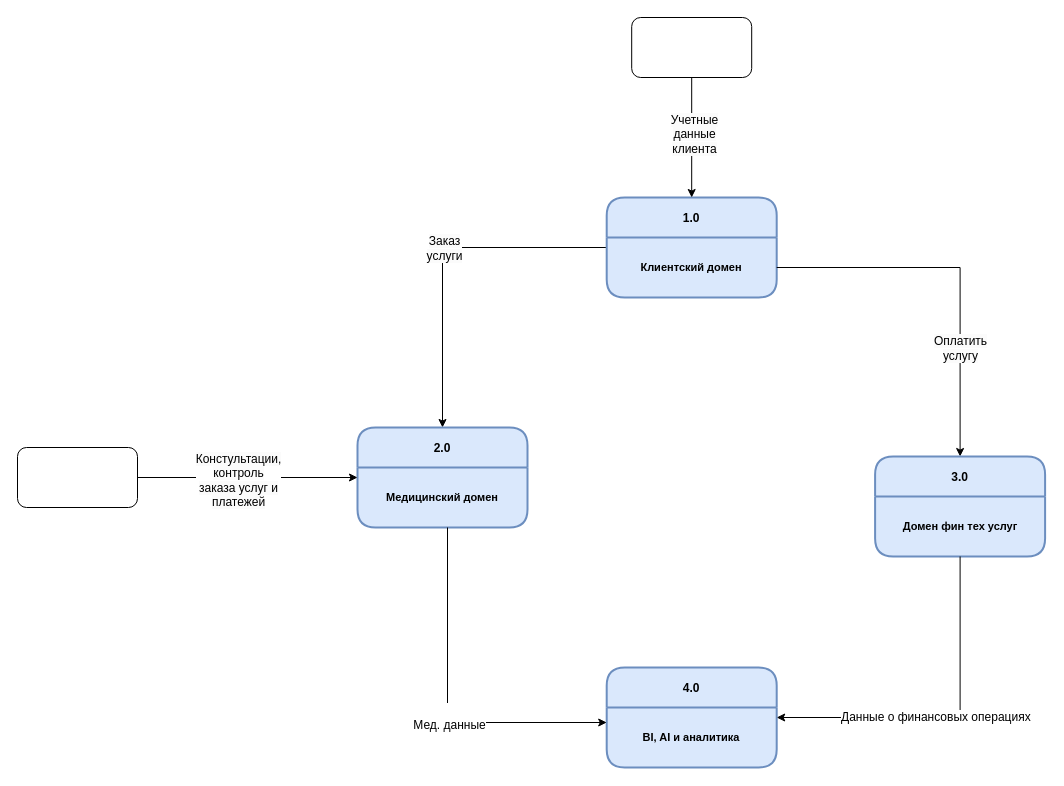
This 1064x786 diagram has some shape labels left out. Here are the shapes that lost their labels. From the top down, the box of each, then its label:
(631, 16, 752, 78): Клиент
(16, 446, 138, 508): Медицинский сотрудник
